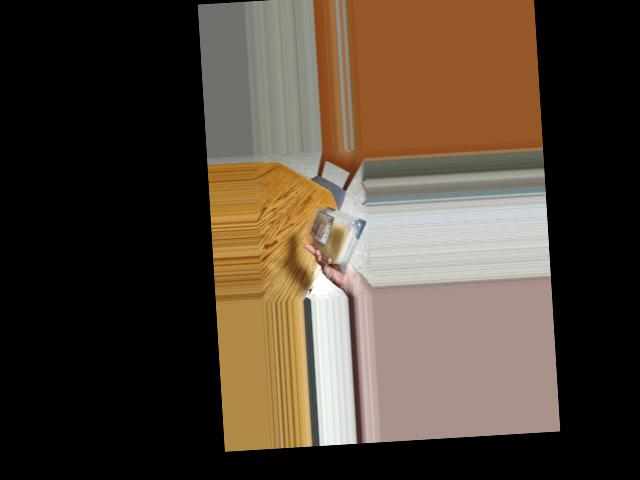cheese: (314, 203, 364, 272)
